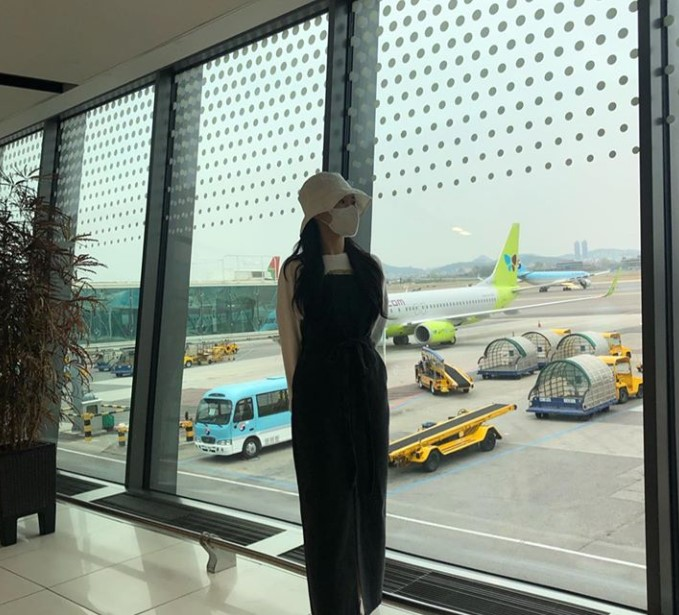face_with_mask: (301, 175, 373, 235)
